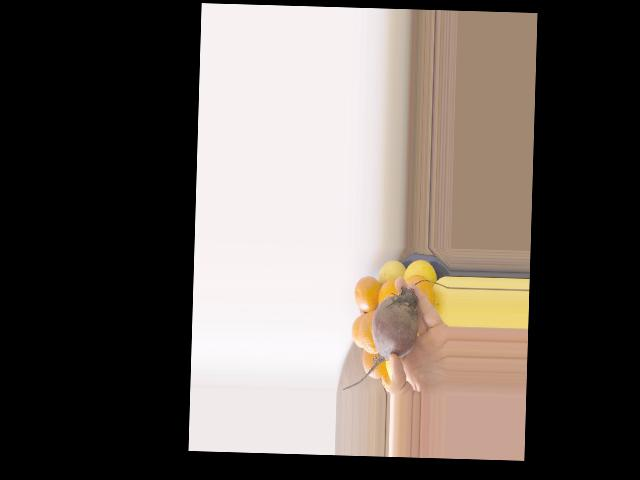beet: (343, 286, 419, 391)
